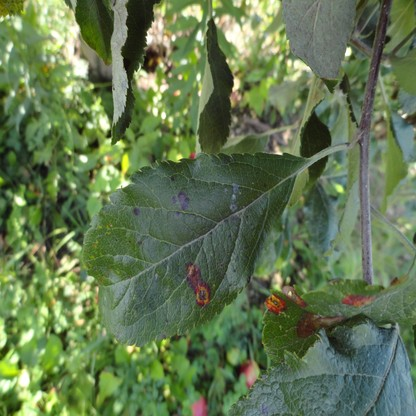rust: (186, 263, 210, 306), (297, 315, 346, 332), (280, 285, 309, 308), (340, 295, 373, 306), (265, 294, 285, 312)
